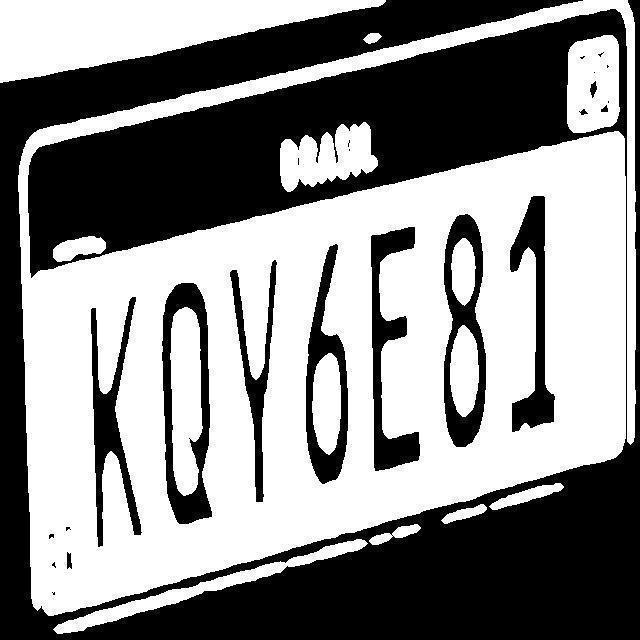1: (503, 179, 562, 435)
6: (296, 235, 354, 490)
8: (432, 207, 498, 449)
e: (365, 217, 425, 479)
k: (81, 288, 145, 548)
q: (153, 277, 216, 530)
y: (225, 255, 284, 506)
